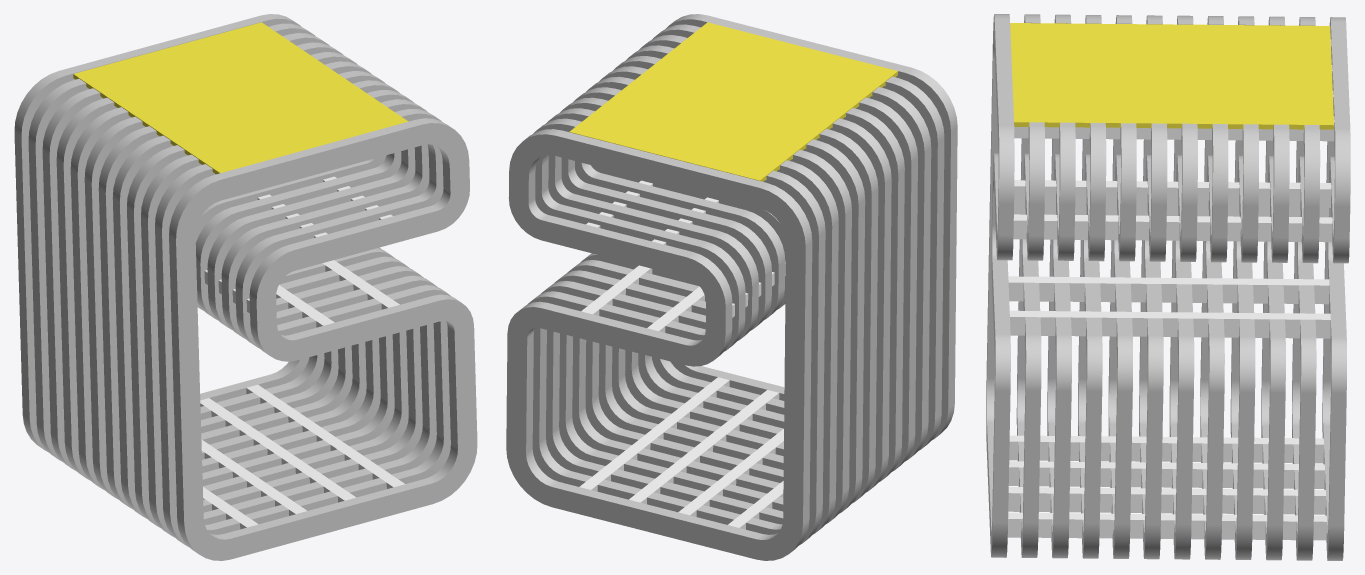
File: cube_2_gr_gold.glb
3 views of the same model, side by side, from view 1: azimuth 30°, elevation 25°; view 2: azimuth 150°, elevation 25°; view 3: azimuth 270°, elevation 25° (orthographic). The views are drawn at different scales.
Parts seen in each view (by area): view 1: DFSNS07-P1, DFSNS07-AYNA, DFSNS07-P2, DFSNS07-P011, DFSNS07-P012, DFSNS07-P013, DFSNS07-P014, DFSNS07-P015, DFSNS07-P021, DFSNS07-P016, DFSNS07-P017, DFSNS07-P018 (+7 smaller); view 2: DFSNS07-P021, DFSNS07-AYNA, DFSNS07-P019, DFSNS07-P018, DFSNS07-P017, DFSNS07-P016, DFSNS07-P015, DFSNS07-P014, DFSNS07-P1, DFSNS07-P013, DFSNS07-P012, DFSNS07-P011 (+7 smaller); view 3: DFSNS07-AYNA, DFSNS07-P1, DFSNS07-P021, DFSNS07-P018, DFSNS07-P011, DFSNS07-P014, DFSNS07-P016, DFSNS07-P015, DFSNS07-P017, DFSNS07-P012, DFSNS07-P2, DFSNS07-P013 (+11 smaller).
Part boxes in pixels (x1=…): DFSNS07-P1: x1=169, y1=118, x2=477, y2=560; DFSNS07-AYNA: x1=73, y1=22, x2=408, y2=174; DFSNS07-P2: x1=155, y1=109, x2=451, y2=547; DFSNS07-P011: x1=141, y1=99, x2=437, y2=537; DFSNS07-P012: x1=127, y1=90, x2=423, y2=527; DFSNS07-P013: x1=112, y1=80, x2=408, y2=518; DFSNS07-P014: x1=98, y1=71, x2=395, y2=509; DFSNS07-P015: x1=84, y1=61, x2=380, y2=499; DFSNS07-P021: x1=14, y1=14, x2=309, y2=452; DFSNS07-P016: x1=70, y1=52, x2=366, y2=490; DFSNS07-P017: x1=56, y1=42, x2=352, y2=480; DFSNS07-P018: x1=42, y1=33, x2=338, y2=471; DFSNS07-P021: x1=506, y1=129, x2=812, y2=560; DFSNS07-AYNA: x1=569, y1=22, x2=897, y2=181; DFSNS07-P019: x1=527, y1=118, x2=825, y2=544; DFSNS07-P018: x1=541, y1=108, x2=838, y2=534; DFSNS07-P017: x1=554, y1=97, x2=851, y2=523; DFSNS07-P016: x1=567, y1=87, x2=865, y2=513; DFSNS07-P015: x1=580, y1=76, x2=878, y2=502; DFSNS07-P014: x1=598, y1=66, x2=891, y2=492; DFSNS07-P1: x1=666, y1=14, x2=957, y2=439; DFSNS07-P013: x1=612, y1=56, x2=904, y2=481; DFSNS07-P012: x1=625, y1=45, x2=917, y2=471; DFSNS07-P011: x1=638, y1=35, x2=931, y2=461; DFSNS07-AYNA: x1=1010, y1=23, x2=1333, y2=129; DFSNS07-P1: x1=986, y1=14, x2=1014, y2=557; DFSNS07-P021: x1=1322, y1=17, x2=1350, y2=560; DFSNS07-P018: x1=1261, y1=16, x2=1289, y2=560; DFSNS07-P011: x1=1047, y1=14, x2=1075, y2=558; DFSNS07-P014: x1=1139, y1=15, x2=1167, y2=559; DFSNS07-P016: x1=1200, y1=16, x2=1228, y2=559; DFSNS07-P015: x1=1169, y1=15, x2=1197, y2=559; DFSNS07-P017: x1=1230, y1=16, x2=1258, y2=559; DFSNS07-P012: x1=1078, y1=15, x2=1106, y2=558; DFSNS07-P2: x1=1016, y1=14, x2=1044, y2=557; DFSNS07-P013: x1=1108, y1=15, x2=1136, y2=558.
Size of the model in its own units: 0.4647 by 0.5633 by 0.4292.
